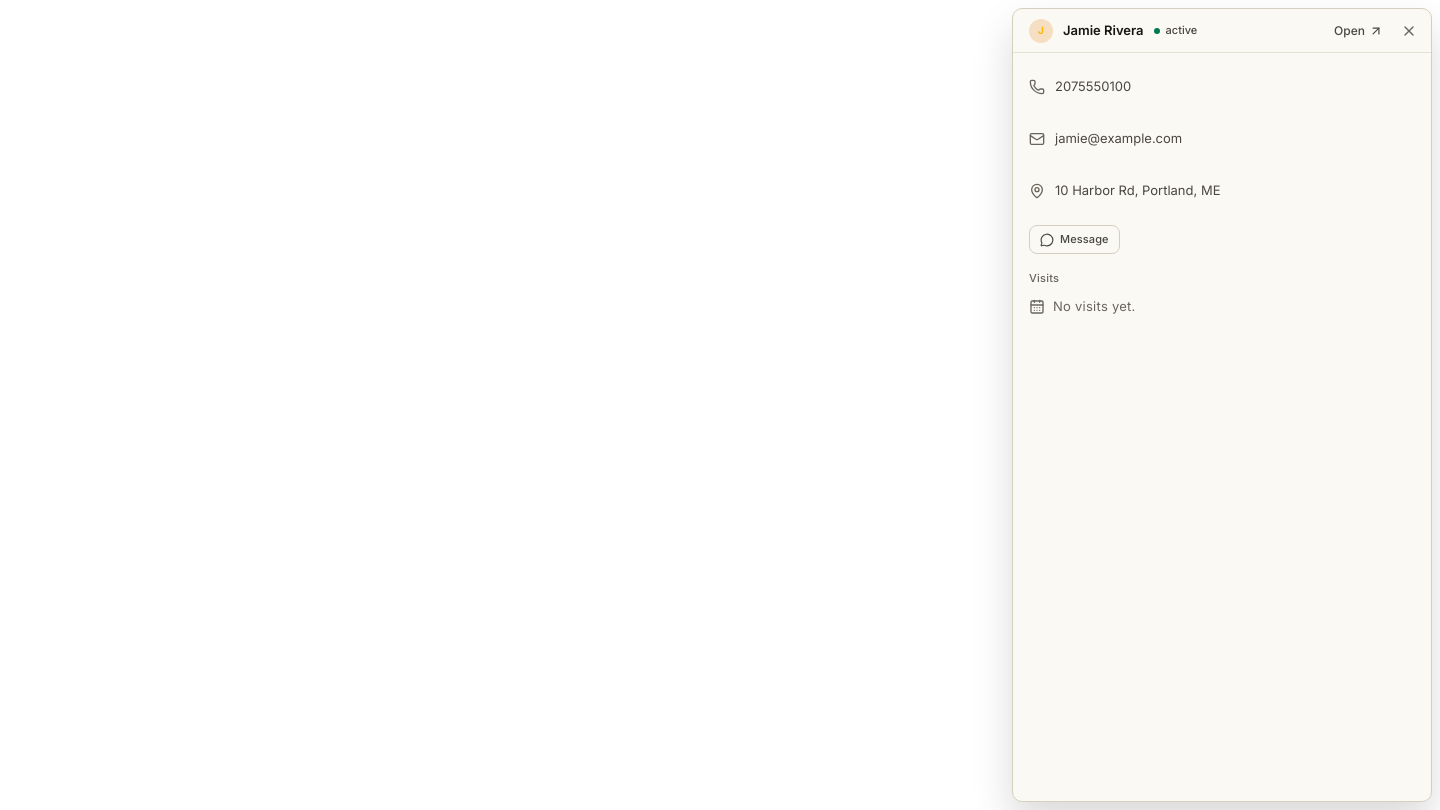
Test case: ClientPeek — inline edit › shows a Message action that opens compose prefilled with the client
What coordinates should you click on to do the following:
click the button "Message"
I would click on:
 (1074, 240)
Its box is [1029,225,1120,254].
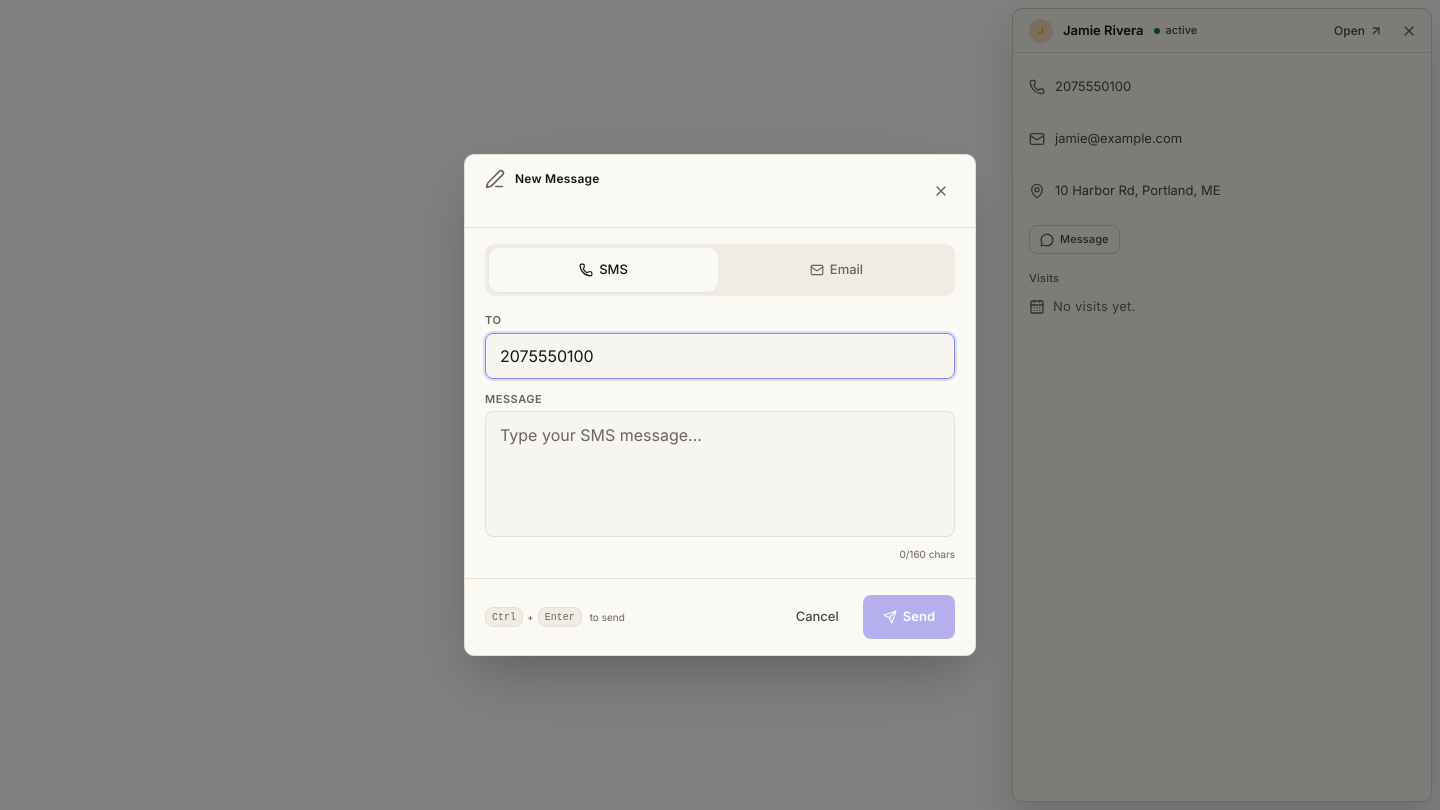
Expected: the field showing "2075550100" is shown, [485,332,955,378]
